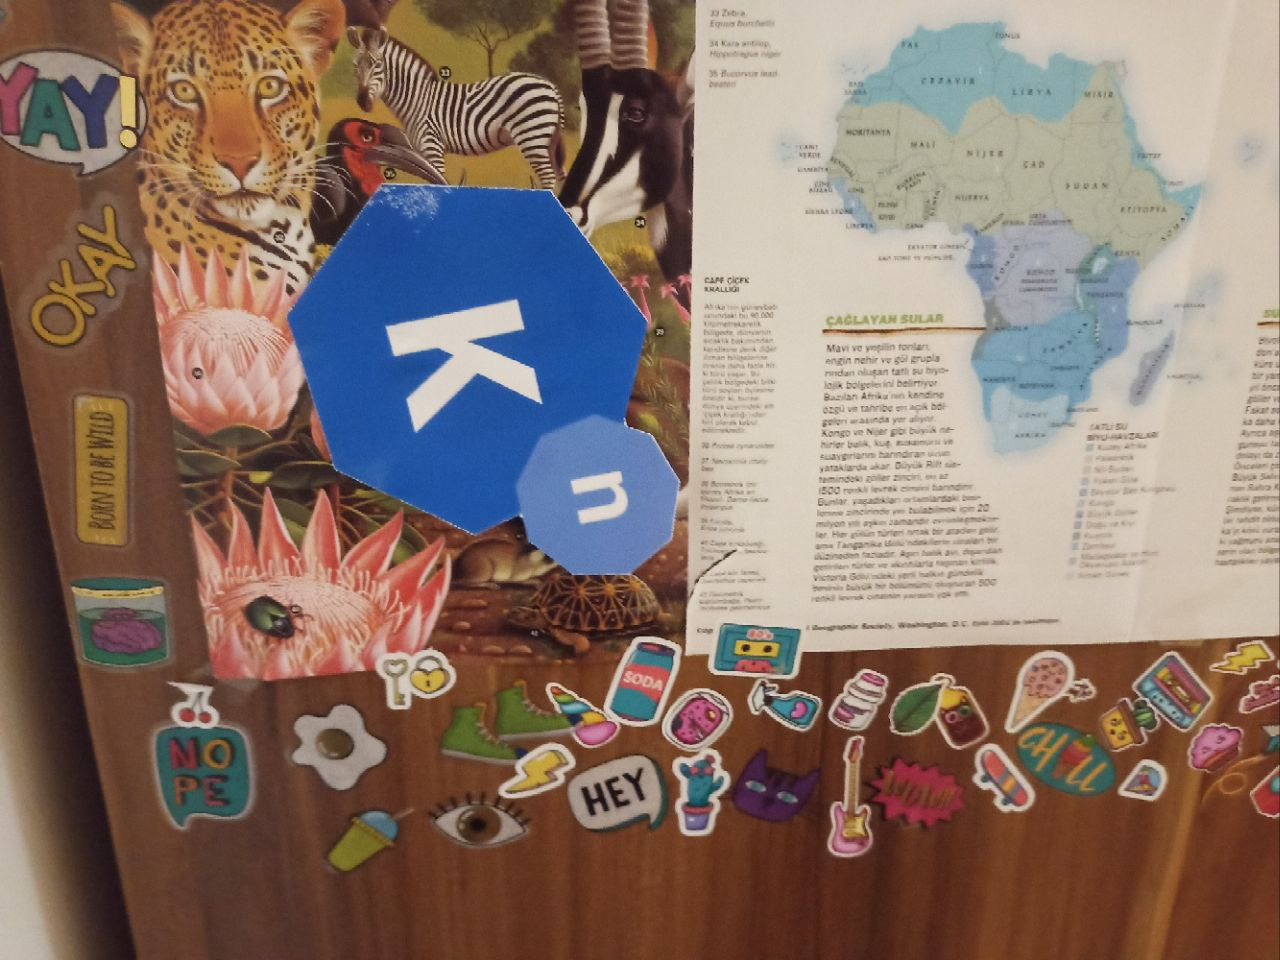knative: (286, 181, 679, 577)
